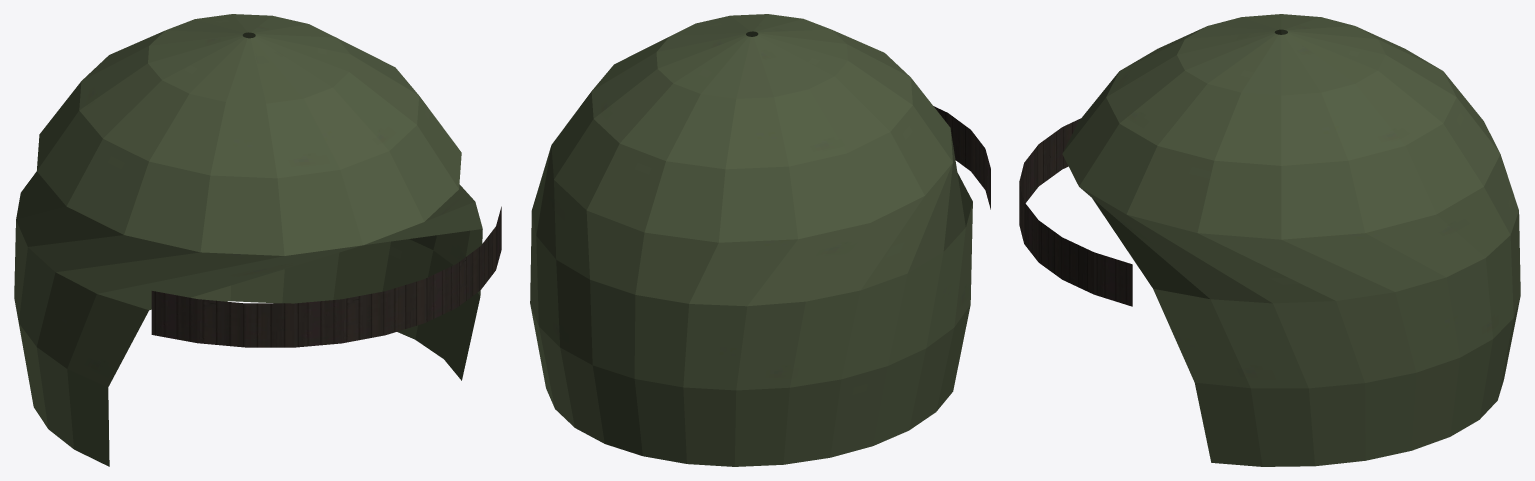
Rendered from eq_present_1_head.glb.
3 views of the same model, side by side, from view 1: azimuth 30°, elevation 25°; view 2: azimuth 150°, elevation 25°; view 3: azimuth 270°, elevation 25° (orthographic). The views are drawn at different scales.
Parts seen in each view (by area): view 1: eq_present_1_head; view 2: eq_present_1_head; view 3: eq_present_1_head.
Part boxes in pixels (x1,y1,x2,y2): eq_present_1_head: (14, 14, 501, 466); eq_present_1_head: (530, 14, 990, 466); eq_present_1_head: (1019, 14, 1520, 466).
Bounding box in the file's own units: 0.2821 × 0.246 × 0.3214.
Materials: 2 (2 with a texture image).
